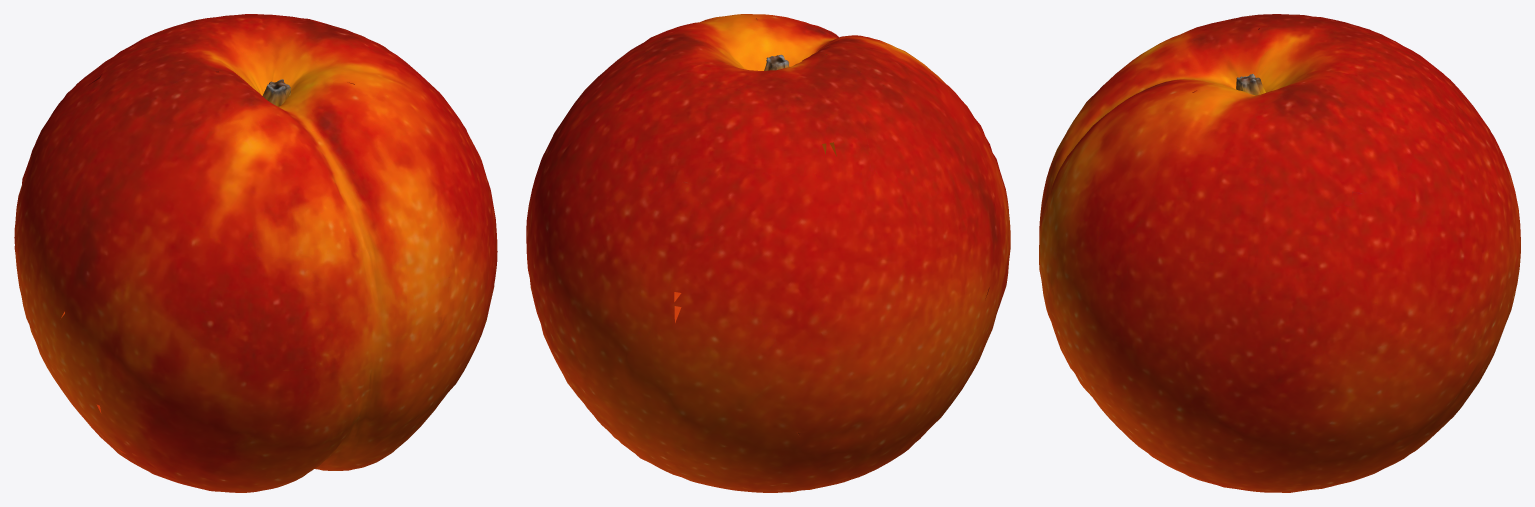
The model's file is peach.glb.
3 renders of one model, left to right at view 1: azimuth 30°, elevation 25°; view 2: azimuth 150°, elevation 25°; view 3: azimuth 270°, elevation 25°, orthographic.
Bounding box in the file's own units: 0.9483 × 0.8901 × 0.9551.
1 material, 1 textured.
